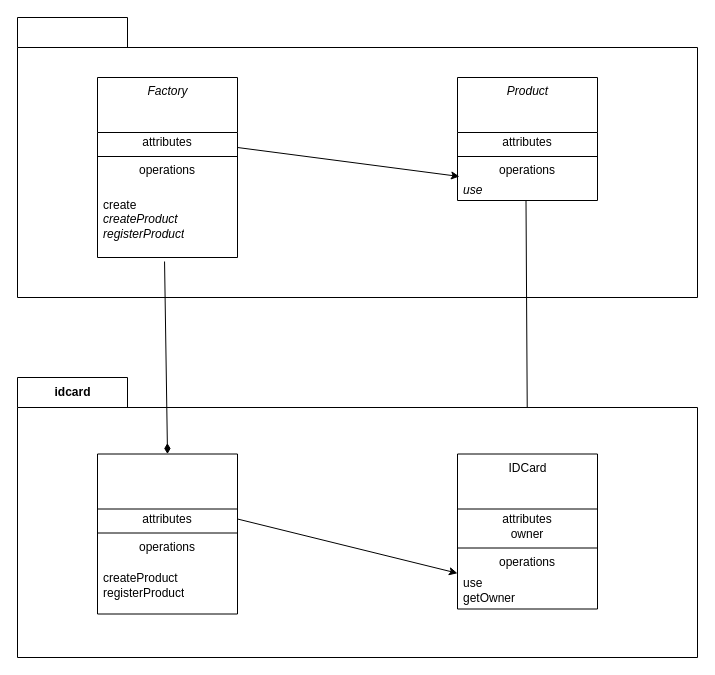
The diagram is 715 pixels wide and 675 high, and some of its shapes have lost their labels. The shapes that lost their labels are listed below. From the top down, each one's box as (x1, y1, x2, y2) in pixels, then its label:
(16, 16, 698, 298): framework
(96, 453, 238, 614): IDCardFactory
